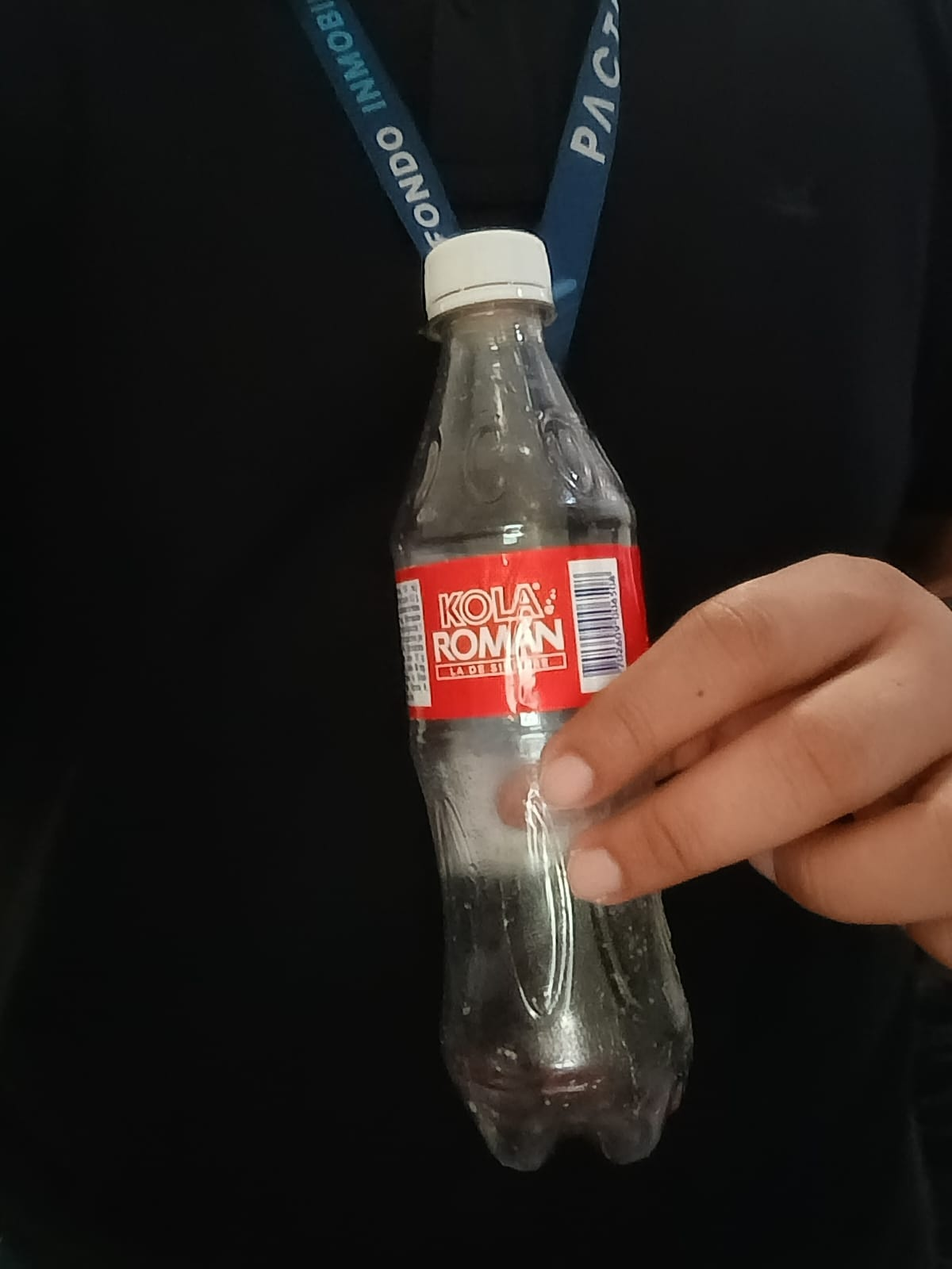Plastico: (389, 228, 698, 1177)
